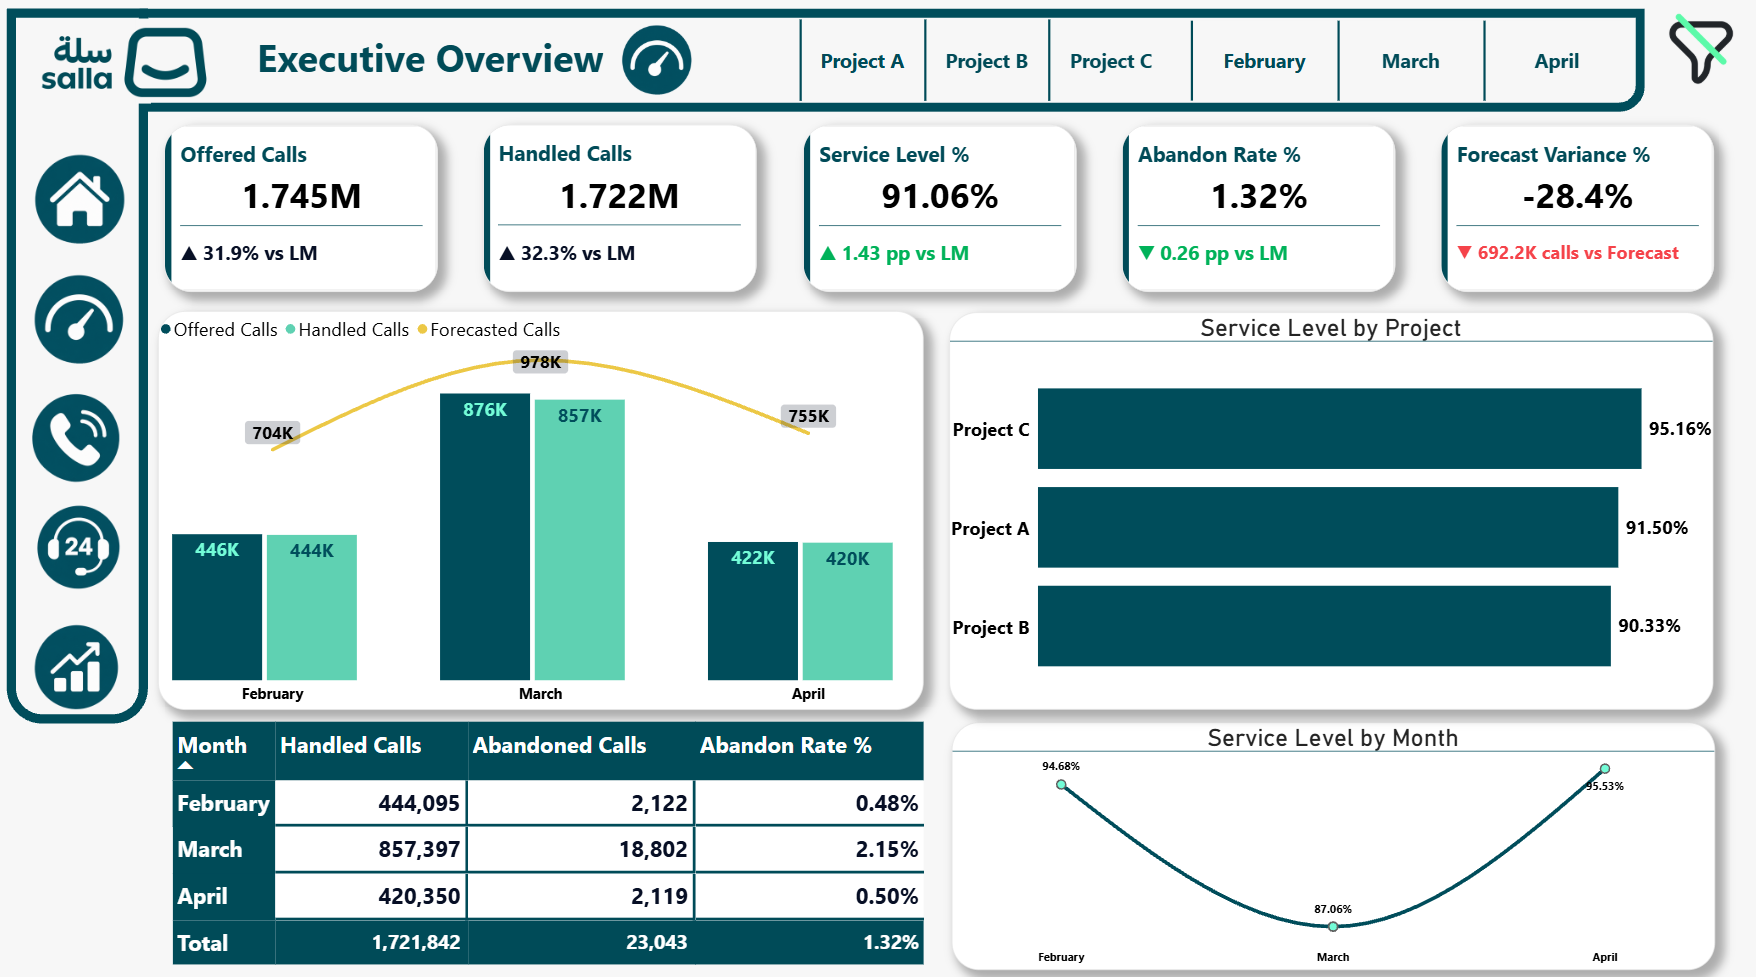

Layout of this report page (visuals, bound fields, positions):
{"tool":"powerbi","page":{"name":"Executive Overview","canvas":[1920,1080],"ordinal":1},"visuals":[{"type":"shape","box":[154.4,14,1642.4,112.7],"z":0},{"type":"shape","box":[10,14,154,780],"z":1000},{"type":"shape","box":[150.6,24,17.2,93.1],"z":2000},{"type":"slicer","fields":{"Values":["DimDate.Month Name"]},"box":[1280,25,516.7,91.7],"z":3000},{"type":"slicer","fields":{"Values":["Sallah Project.Project"]},"box":[853.3,23.3,445,93.3],"z":4000},{"type":"cardVisual","fields":{"Data":["_Measures.Total Offered Calls"]},"box":[181.7,140.8,298,182],"z":5000},{"type":"cardVisual","fields":{"Data":["_Measures.Total Handled Calls"]},"box":[529.7,140.8,298,182],"z":6000},{"type":"cardVisual","fields":{"Data":["_Measures.Service Level %"]},"box":[877.7,140.8,298,182],"z":7000},{"type":"cardVisual","fields":{"Data":["_Measures.Abandon Rate %"]},"box":[1225.7,140.8,298,182],"z":8000},{"type":"cardVisual","fields":{"Data":["_Measures.Forecast Variance %"]},"box":[1573.7,140.8,298,182],"z":9000},{"type":"lineClusteredColumnComboChart","fields":{"Category":["DimDate.Date.Variation.Date Hierarchy.Month"],"Y":["_Measures.Total Offered Calls","_Measures.Total Handled Calls"],"Y2":["_Measures.Total Forecasted Calls"]},"box":[175,343.3,835,435],"z":10000},{"type":"image","box":[18,156,142,118],"z":11000},{"type":"image","box":[18,286,142,118],"z":12000},{"type":"image","box":[18,416,142,118],"z":13000},{"type":"image","box":[18,546,142,118],"z":14000},{"type":"image","box":[18,676,142,118],"z":15000},{"type":"image","box":[10.8,10.8,254.3,122.8],"z":16000},{"type":"image","box":[1816.9,0,83.2,115.8],"z":17000},{"type":"lineChart","title":"Service Level by Month","fields":{"Category":["DimDate.Month Name"],"Y":["_Measures.Service Level %"]},"box":[1040,792.5,832.5,270],"z":18000},{"type":"pivotTable","fields":{"Rows":["DimDate.Date.Variation.Date Hierarchy.Month"],"Values":["_Measures.Total Handled Calls","_Measures.Total Abandoned Calls","_Measures.Abandon Rate %"]},"box":[175,777.5,852.5,302.5],"z":19000},{"type":"clusteredBarChart","title":"Service Level by Project","fields":{"Category":["Sallah Project.Project"],"Y":["_Measures.Service Level %"]},"box":[1038.3,345,833.3,433.3],"z":20000},{"type":"image","box":[663.7,17.2,109.9,92.7],"z":21000}]}

Visuals, with their boxes in screenshot pixels (x1, y1, x2, y2), scaled from the page's 1920x1080 canvas onto the 1756x977 screenshot:
shape: x1=141 y1=13 x2=1643 y2=115
shape: x1=9 y1=13 x2=150 y2=718
shape: x1=138 y1=22 x2=153 y2=106
slicer - DimDate.Month Name: x1=1171 y1=23 x2=1643 y2=106
slicer - Sallah Project.Project: x1=780 y1=21 x2=1187 y2=105
cardVisual - _Measures.Total Offered Calls: x1=166 y1=127 x2=439 y2=292
cardVisual - _Measures.Total Handled Calls: x1=484 y1=127 x2=757 y2=292
cardVisual - _Measures.Service Level %: x1=803 y1=127 x2=1075 y2=292
cardVisual - _Measures.Abandon Rate %: x1=1121 y1=127 x2=1394 y2=292
cardVisual - _Measures.Forecast Variance %: x1=1439 y1=127 x2=1712 y2=292
lineClusteredColumnComboChart - DimDate.Date.Variation.Date Hierarchy.Month x _Measures.Total Offered Calls: x1=160 y1=311 x2=924 y2=704
image: x1=16 y1=141 x2=146 y2=248
image: x1=16 y1=259 x2=146 y2=365
image: x1=16 y1=376 x2=146 y2=483
image: x1=16 y1=494 x2=146 y2=601
image: x1=16 y1=612 x2=146 y2=718
image: x1=10 y1=10 x2=242 y2=121
image: x1=1662 y1=0 x2=1738 y2=105
"Service Level by Month" lineChart: x1=951 y1=717 x2=1713 y2=961
pivotTable - DimDate.Date.Variation.Date Hierarchy.Month x _Measures.Total Handled Calls: x1=160 y1=703 x2=940 y2=976
"Service Level by Project" clusteredBarChart: x1=950 y1=312 x2=1712 y2=704
image: x1=607 y1=16 x2=708 y2=99
